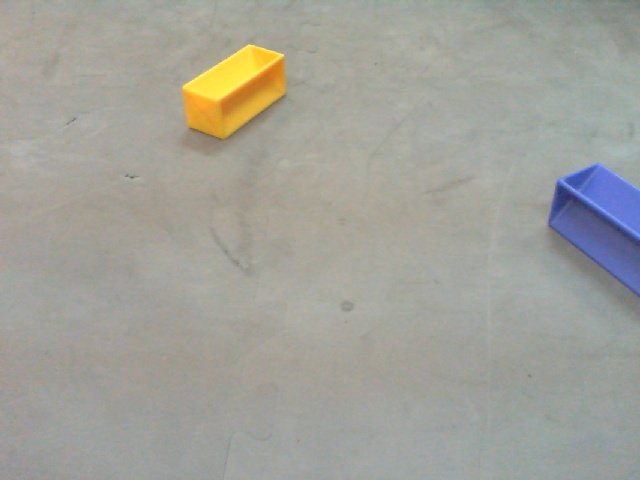BlueSample: (544, 152, 640, 298)
YellowSample: (179, 39, 296, 142)
